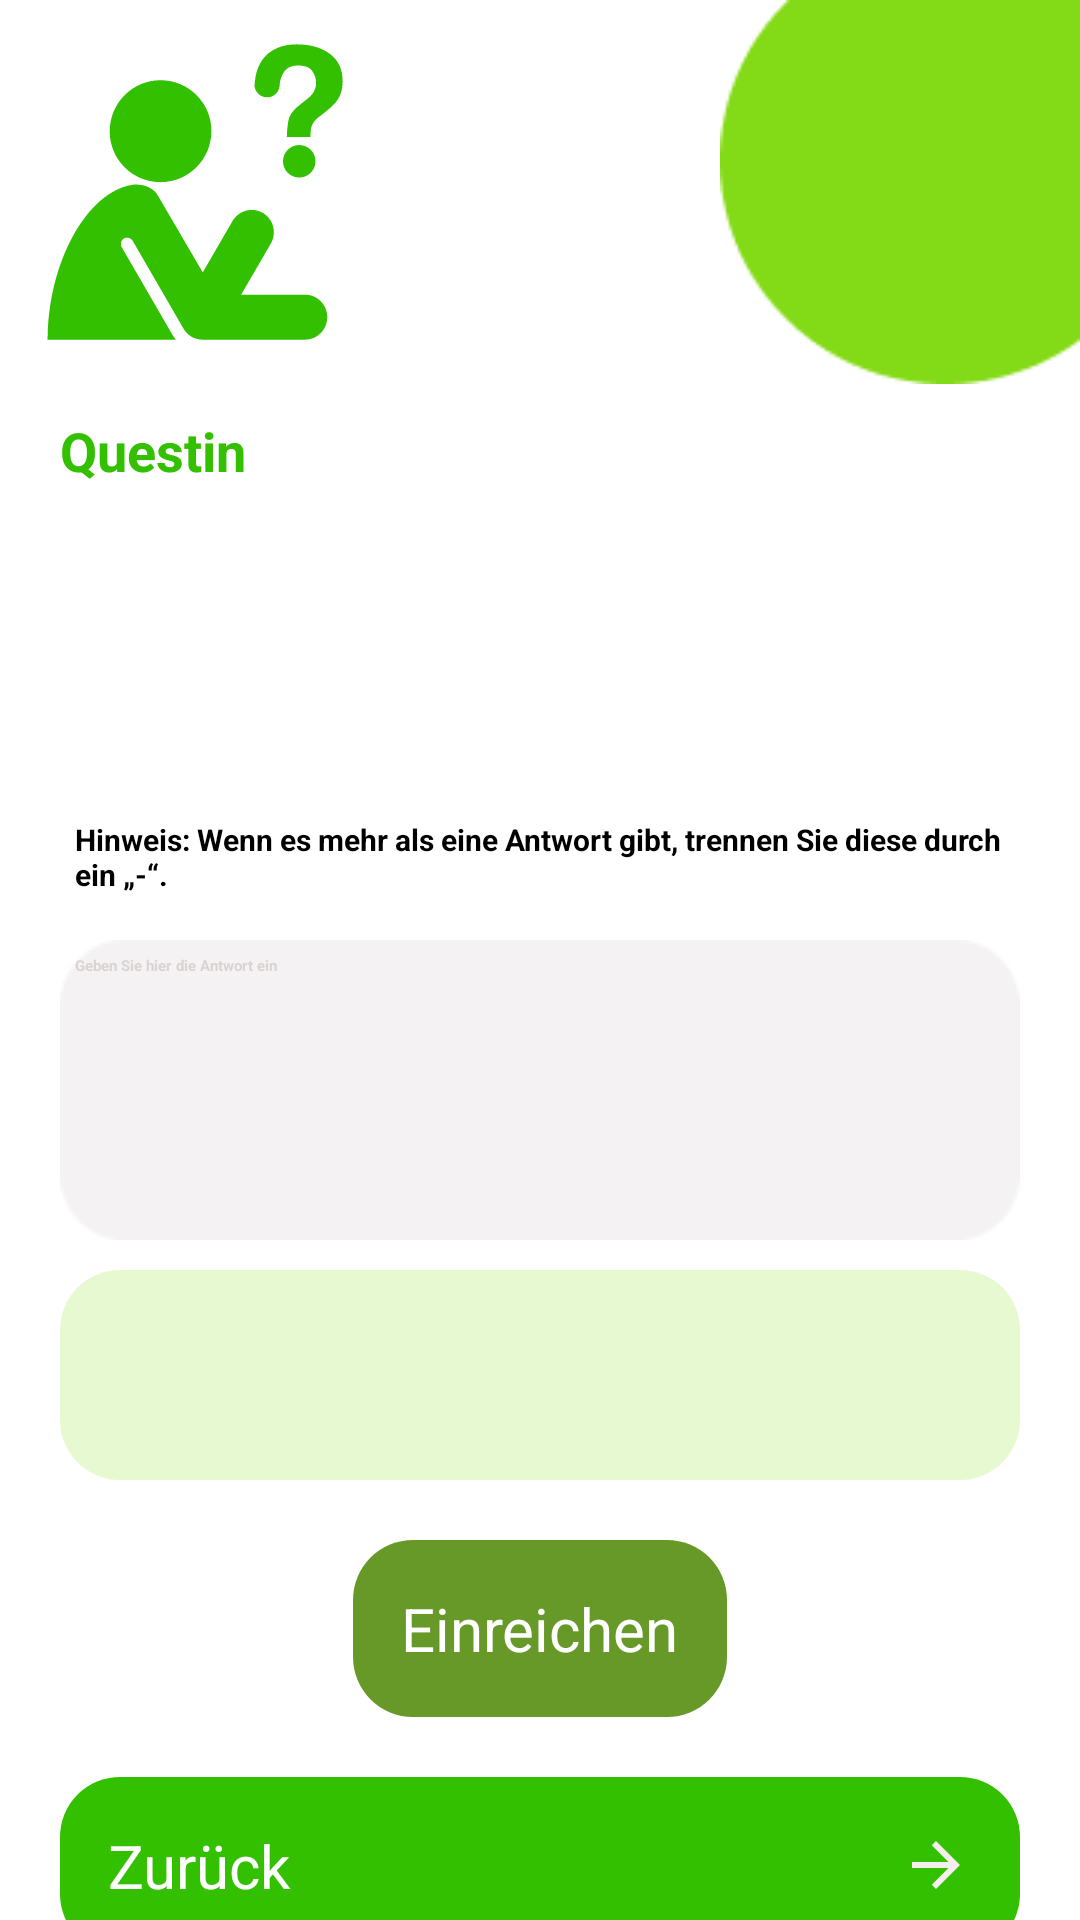

Icons on this 1080px×1920px Android screen, each with the point to tap as (x=x, y=y):
thinker: (x=195, y=192)
